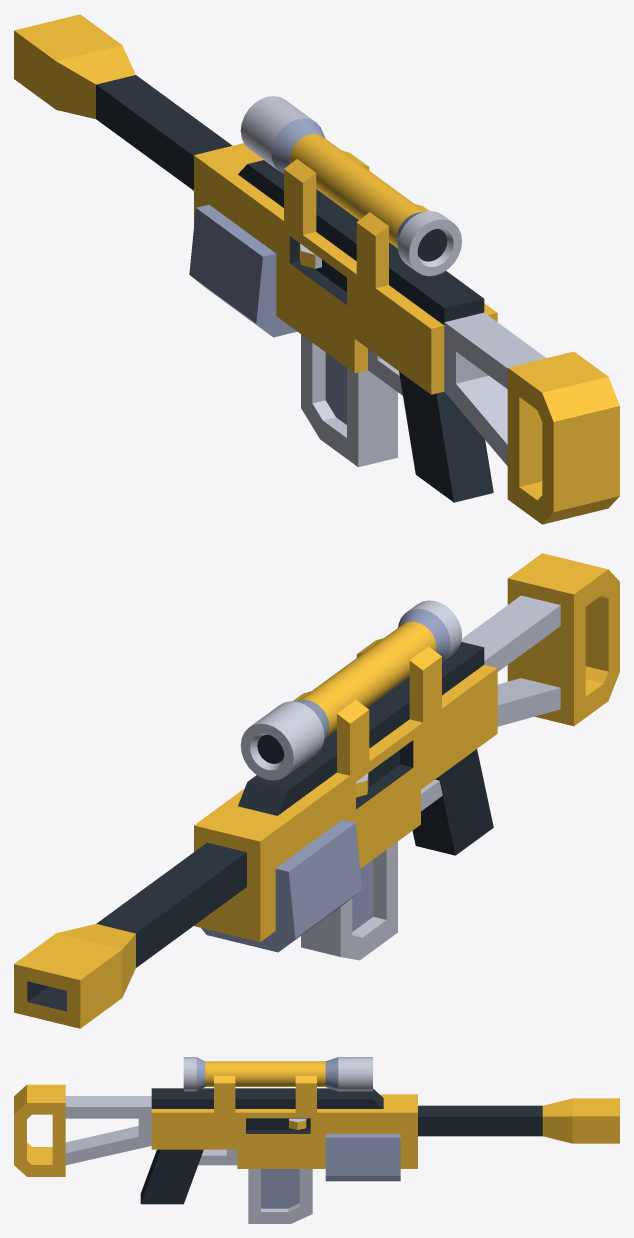
The model's file is blasterE.dae.
3 renders of one model, top to bottom at view 1: azimuth 30°, elevation 25°; view 2: azimuth 150°, elevation 25°; view 3: azimuth 270°, elevation 25°, orthographic. The views are drawn at different scales.
Visible parts, largest first — view 1: blasterE; view 2: blasterE; view 3: blasterE.
Boxes of the visible parts, x1,y1,x2,y2 form: blasterE: (14,14,619,524); blasterE: (14,553,619,1028); blasterE: (14,1057,619,1223).
Bounding box in the file's own units: 0.16 × 0.41 × 1.41.
